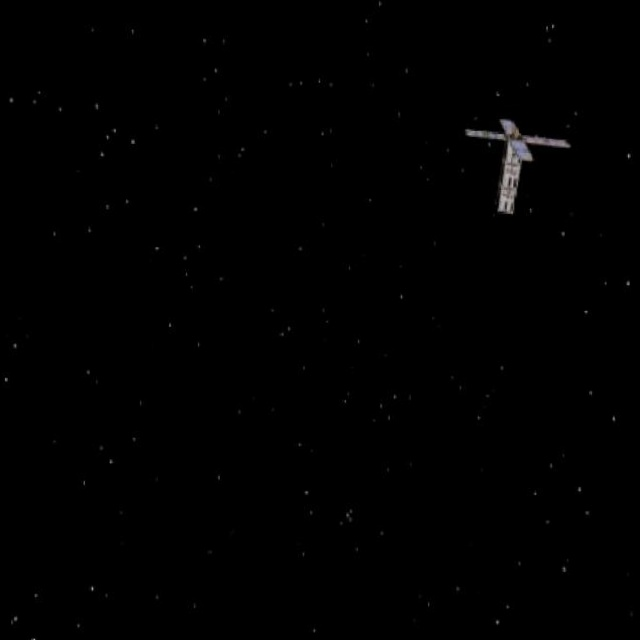medium_debris: (455, 100, 577, 223)
